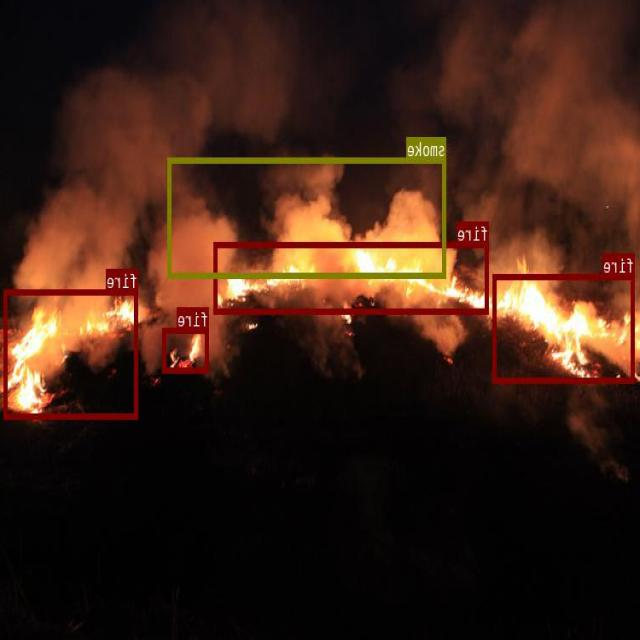fire: (215, 242, 489, 314), (5, 288, 138, 418), (494, 274, 635, 382), (163, 327, 210, 372)
smoke: (168, 157, 447, 277)
